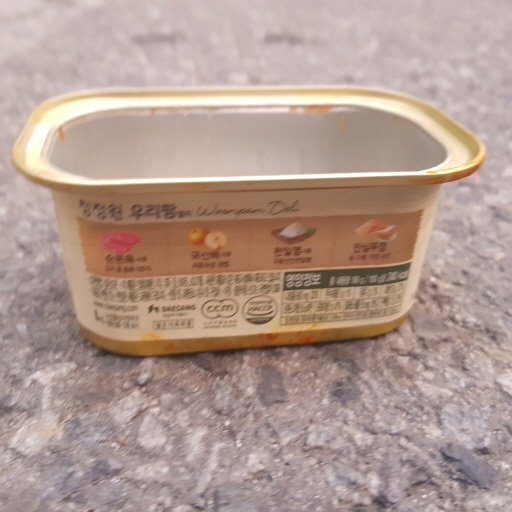Metal_2: (14, 83, 488, 345)
